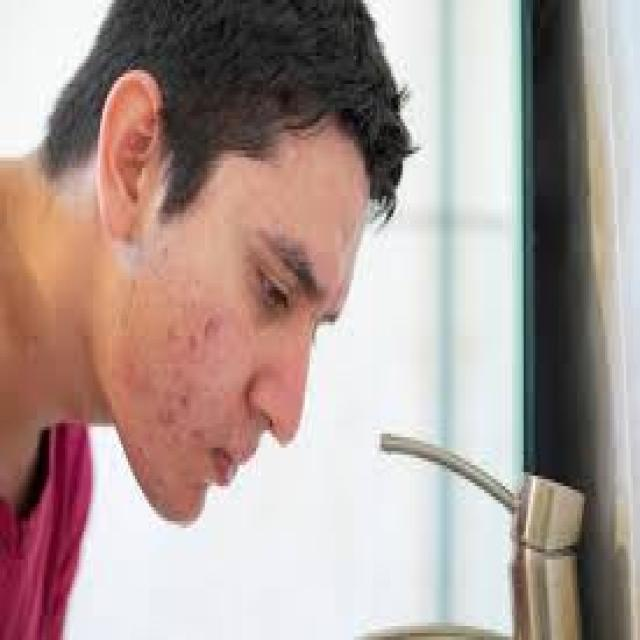Acne: (172, 280, 218, 432)
